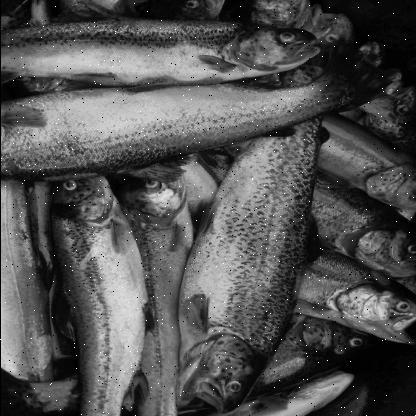fish: (178, 29, 354, 410), (49, 136, 150, 416), (0, 15, 322, 92)
